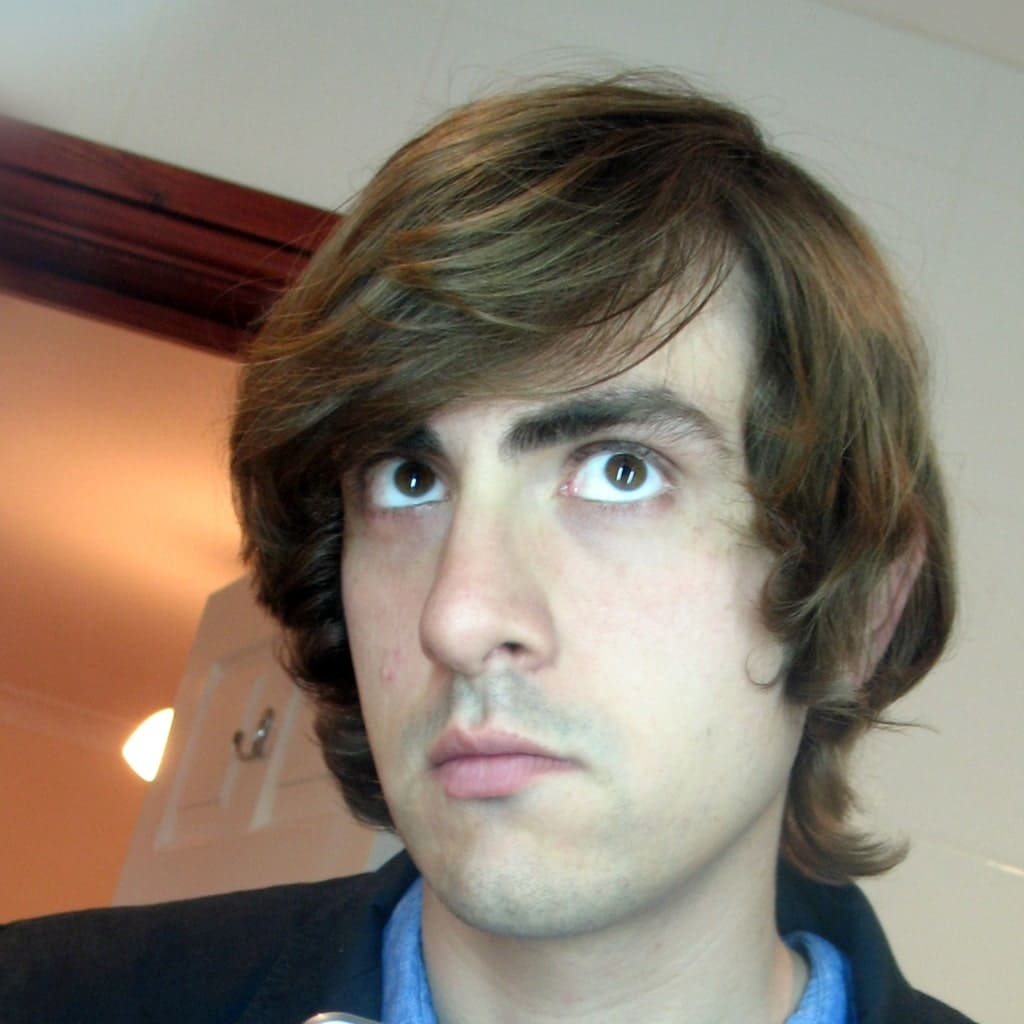without_mask: (320, 336, 777, 879)
